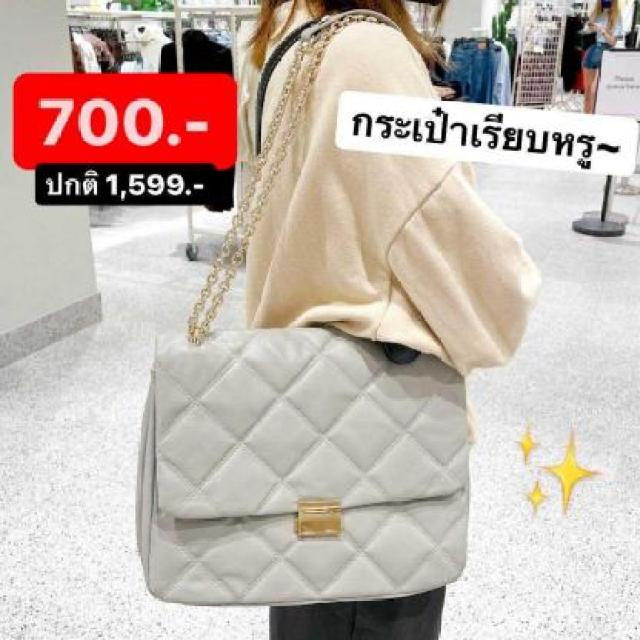Bag: (90, 3, 493, 611)
